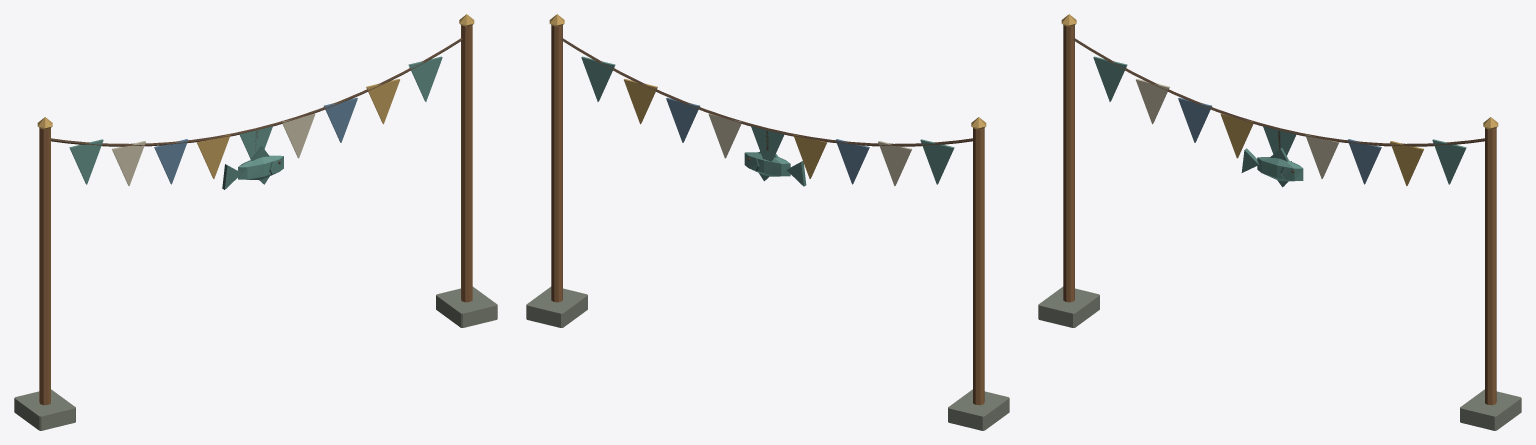
Rendered from fishfest_banner.glb.
3 views of the same model, side by side, from view 1: azimuth 30°, elevation 25°; view 2: azimuth 150°, elevation 25°; view 3: azimuth 330°, elevation 25° (orthographic).
Parts seen in each view (by area): view 1: geometry; view 2: geometry; view 3: geometry.
Part boxes in pixels (x1,y1,x2,y2): geometry: [14, 14, 497, 430]; geometry: [526, 14, 1009, 430]; geometry: [1038, 14, 1521, 430].
Bounding box in the file's own units: 4 × 2.51 × 0.4.
